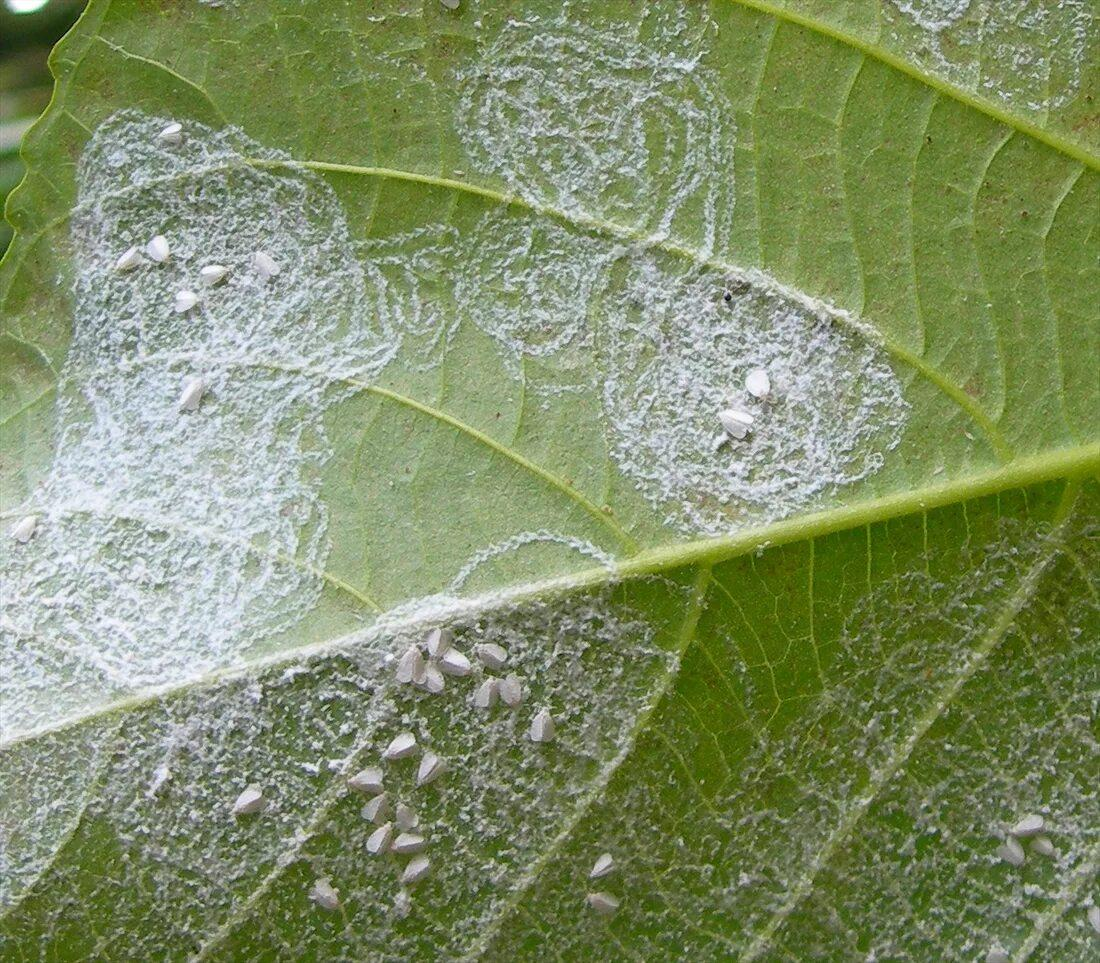pseudococcidae: (5, 13, 1099, 962)
